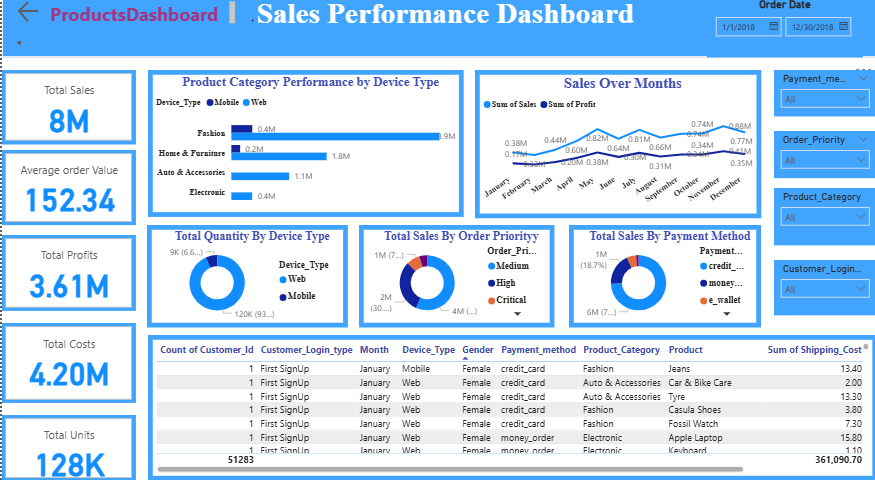

The page's visual inventory and layout, read from the dashboard file:
{"tool":"powerbi","page":{"name":"Sales Performance Dashboard","canvas":[1280,720],"ordinal":0},"visuals":[{"type":"textbox","box":[0,5.7,1280,94.3],"z":0},{"type":"cardVisual","fields":{"Data":["E-commerce Dataset (2).Total Units"]},"box":[0,622.9,195.7,97.1],"z":1000},{"type":"cardVisual","fields":{"Data":["E-commerce Dataset (2).Total Profits"]},"box":[0,360,195.7,111.4],"z":2000},{"type":"cardVisual","title":"Total Sales ","fields":{"Data":["E-commerce Dataset (2).Total Costs"]},"box":[0,488.6,195.7,117.1],"z":3000},{"type":"cardVisual","title":"Total Sales","fields":{"Data":["E-commerce Dataset (2).Total Sales"]},"box":[0,118.6,195.7,108.6],"z":4000},{"type":"cardVisual","fields":{"Data":["E-commerce Dataset (2).Average order Value"]},"box":[0,235.7,195.7,110],"z":5000},{"type":"clusteredBarChart","title":"Product Category Performance by Device Type","fields":{"Category":["E-commerce Dataset (2).Product_Category"],"Series":["E-commerce Dataset (2).Device_Type"],"Y":["Sum(E-commerce Dataset (2).Sales)"]},"box":[213.4,119.2,462.1,214.9],"z":6000},{"type":"donutChart","title":"Total Quantity By Device Type","fields":{"Category":["E-commerce Dataset (2).Device_Type"],"Y":["Sum(E-commerce Dataset (2).Quantity)"]},"box":[212.9,345.7,294.3,150],"z":7000},{"type":"lineChart","title":"Sales Over Months","fields":{"Category":["E-commerce Dataset (2).Order_Date.Variation.Date Hierarchy.Month"],"Y":["Sum(E-commerce Dataset (2).Sales)","Sum(E-commerce Dataset (2).Profit)"]},"box":[692.9,118.6,418.6,217.1],"z":8000},{"type":"donutChart","title":"Total Sales By Payment Method","fields":{"Category":["E-commerce Dataset (2).Payment_method"],"Y":["Sum(E-commerce Dataset (2).Sales)"]},"box":[830,345.7,281.4,150],"z":9000},{"type":"donutChart","title":"Total Sales By Order Priorityy ","fields":{"Category":["E-commerce Dataset (2).Order_Priority"],"Y":["Sum(E-commerce Dataset (2).Sales)"]},"box":[522.9,345.7,285.7,150],"z":10000},{"type":"tableEx","title":"Total Sales By Order Priorityy ","fields":{"Values":["CountNonNull(E-commerce Dataset (2).Customer_Id)","E-commerce Dataset (2).Customer_Login_type","E-commerce Dataset (2).Order_Date.Variation.Date Hierarchy.Month","E-commerce Dataset (2).Device_Type","E-commerce Dataset (2).Gender","E-commerce Dataset (2).Payment_method","E-commerce Dataset (2).Product_Category","E-commerce Dataset (2).Product","Sum(E-commerce Dataset (2).Shipping_Cost)","Sum(E-commerce Dataset (2).Sales)","Sum(E-commerce Dataset (2).Quantity)"]},"box":[213.4,506.2,1066.9,213.4],"z":11000},{"type":"actionButton","box":[18.6,57.1,12.9,42.9],"z":12000},{"type":"slicer","fields":{"Values":["E-commerce Dataset (2).Customer_Login_type"]},"box":[1130.2,395.9,150.1,80.9],"z":13000},{"type":"slicer","title":"Order Date ","fields":{"Values":["E-commerce Dataset (2).Order_Date"]},"box":[1031.6,13.2,228.1,86.8],"z":14000},{"type":"slicer","fields":{"Values":["E-commerce Dataset (2).Payment_method"]},"box":[1130.2,119.2,150.1,67.7],"z":15000},{"type":"slicer","fields":{"Values":["E-commerce Dataset (2).Order_Priority"]},"box":[1130.2,207.5,150.1,69.2],"z":16000},{"type":"slicer","fields":{"Values":["E-commerce Dataset (2).Product_Category"]},"box":[1130.2,291.4,150.1,83.9],"z":17000},{"type":"textbox","box":[65.7,12.9,280,44.3],"z":18000},{"type":"actionButton","box":[18.6,12.9,47.1,40],"z":19000}]}

Visuals, with their boxes in screenshot pixels (x1, y1, x2, y2), scaled from the page's 1280x720 canvas onto the 875x480 screenshot:
textbox: [0,4,874,67]
cardVisual - E-commerce Dataset (2).Total Units: [0,415,134,479]
cardVisual - E-commerce Dataset (2).Total Profits: [0,240,134,314]
"Total Sales " cardVisual: [0,326,134,404]
"Total Sales" cardVisual: [0,79,134,151]
cardVisual - E-commerce Dataset (2).Average order Value: [0,157,134,230]
"Product Category Performance by Device Type" clusteredBarChart: [146,79,462,223]
"Total Quantity By Device Type" donutChart: [146,230,347,330]
"Sales Over Months" lineChart: [474,79,760,224]
"Total Sales By Payment Method" donutChart: [567,230,760,330]
"Total Sales By Order Priorityy " donutChart: [357,230,553,330]
"Total Sales By Order Priorityy " tableEx: [146,337,874,479]
actionButton: [13,38,22,67]
slicer - E-commerce Dataset (2).Customer_Login_type: [773,264,874,318]
"Order Date " slicer: [705,9,861,67]
slicer - E-commerce Dataset (2).Payment_method: [773,79,874,125]
slicer - E-commerce Dataset (2).Order_Priority: [773,138,874,184]
slicer - E-commerce Dataset (2).Product_Category: [773,194,874,250]
textbox: [45,9,236,38]
actionButton: [13,9,45,35]
